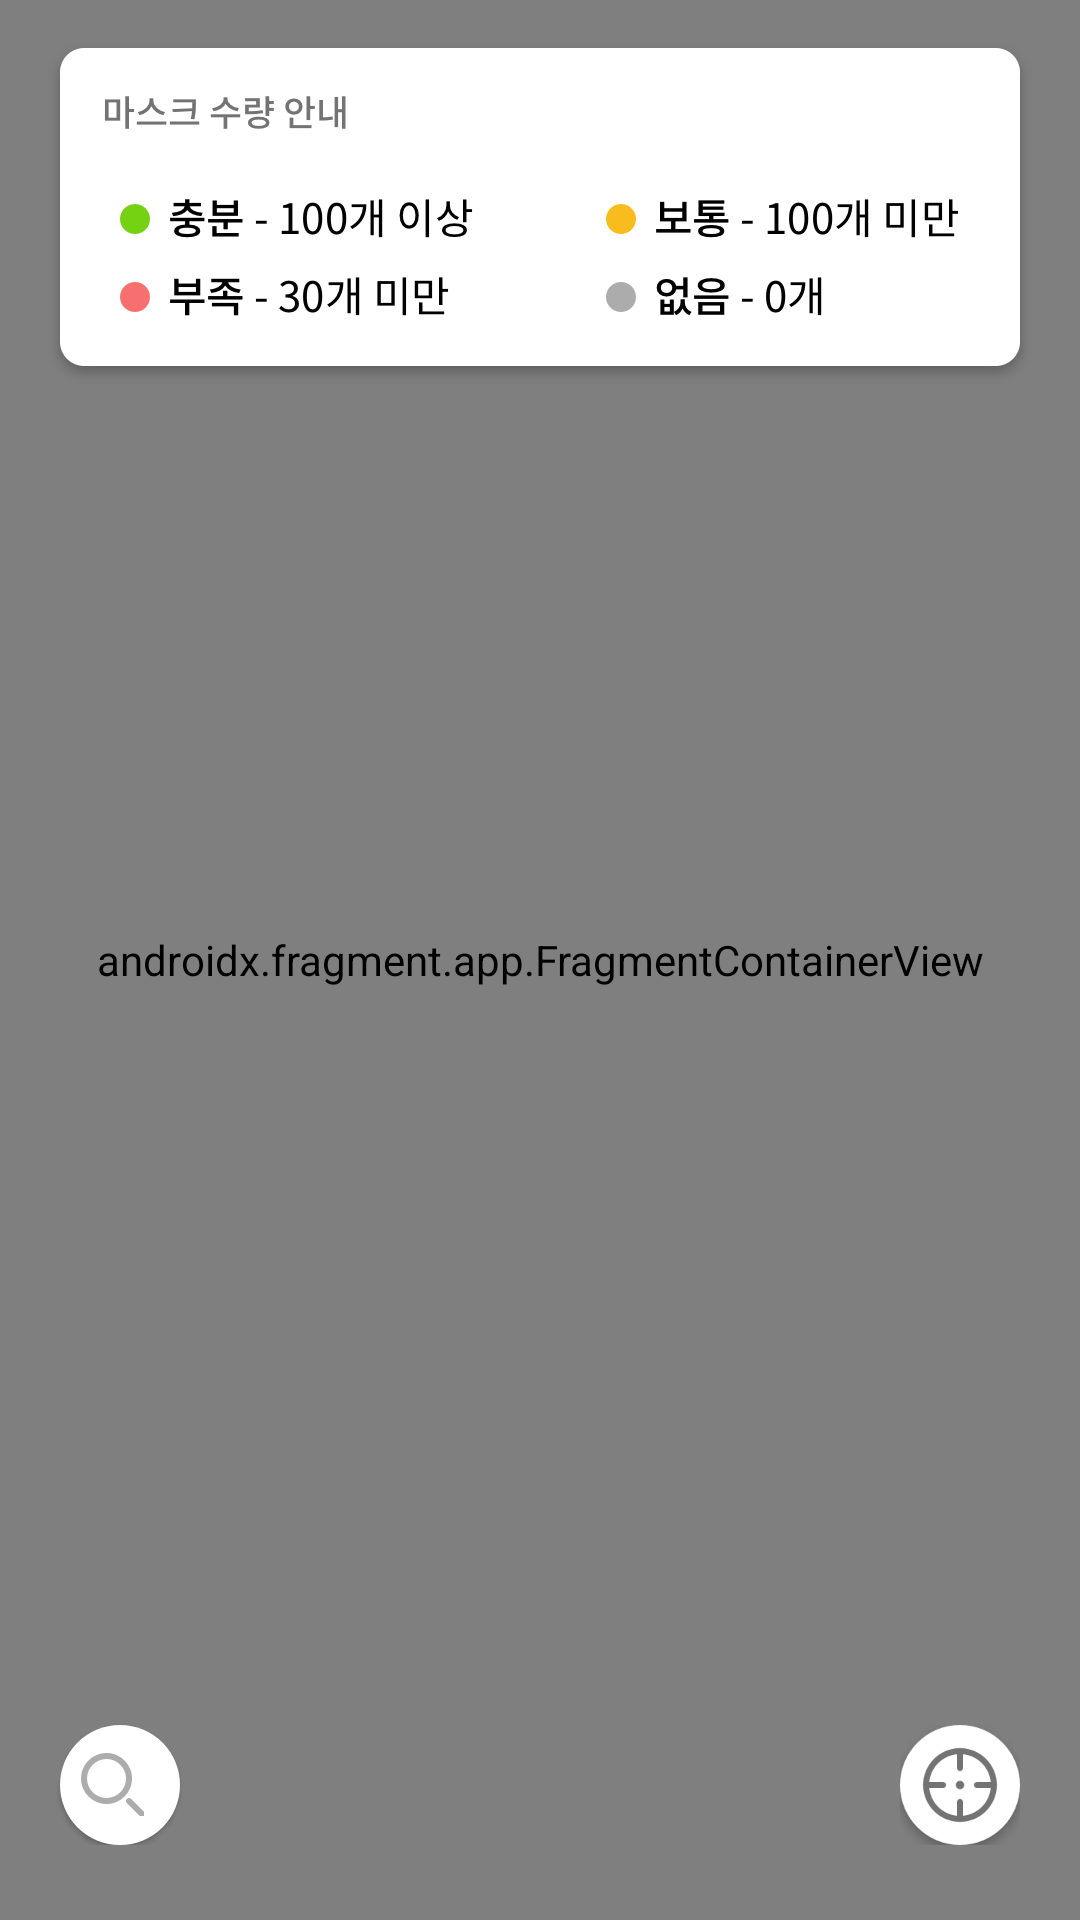

Named icons in this screenshot (1080w x 1920h) and their centers, [x,y]:
my location icon: [960,1785]
